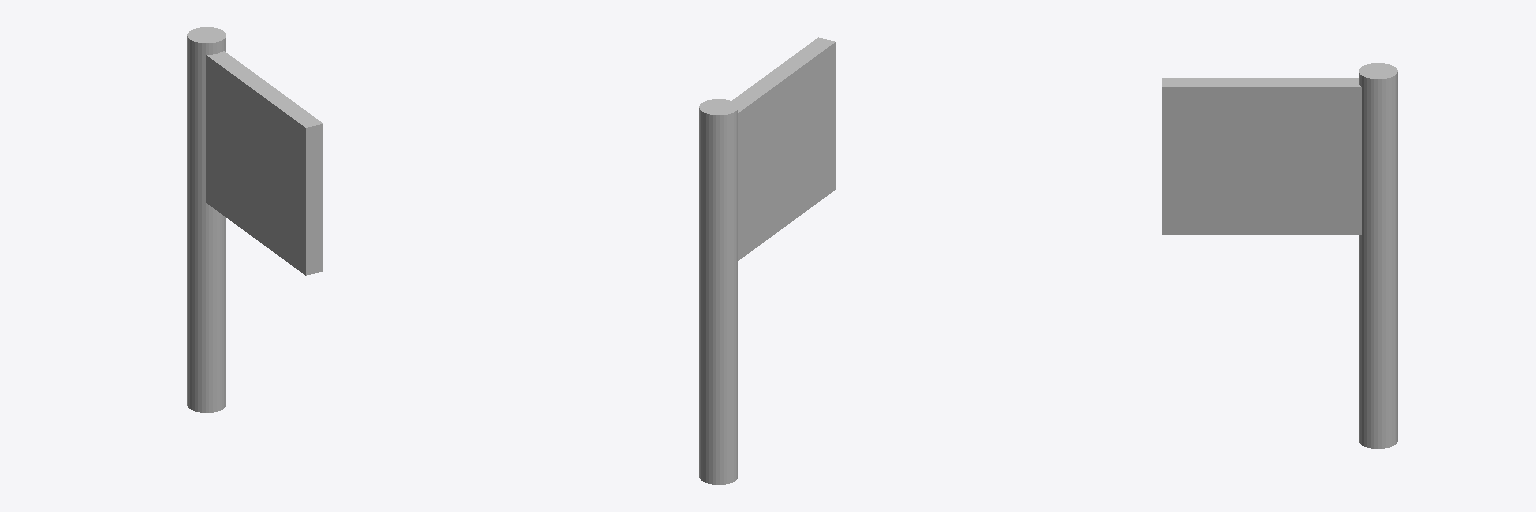
The model's file is PatrolFlag.obj.
3 renders of one model, left to right at view 1: azimuth 30°, elevation 25°; view 2: azimuth 150°, elevation 25°; view 3: azimuth 270°, elevation 25°, orthographic.
Bounding box in the file's own units: 0.0957 × 1 × 0.5776.